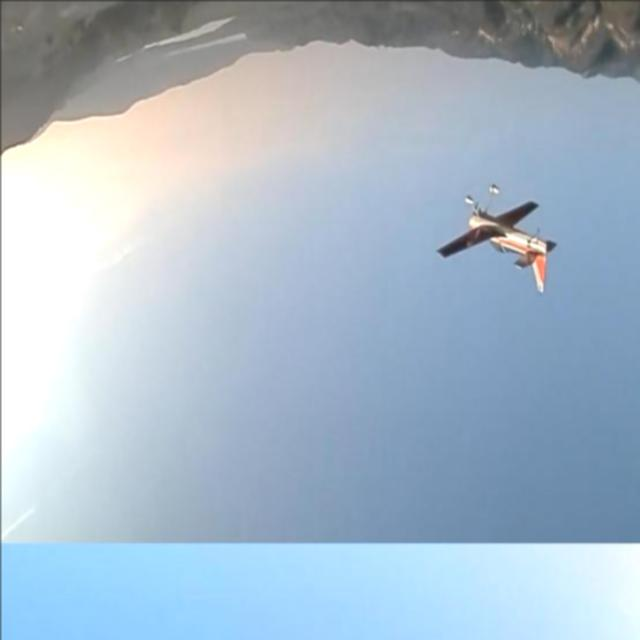plane: (433, 182, 556, 295)
